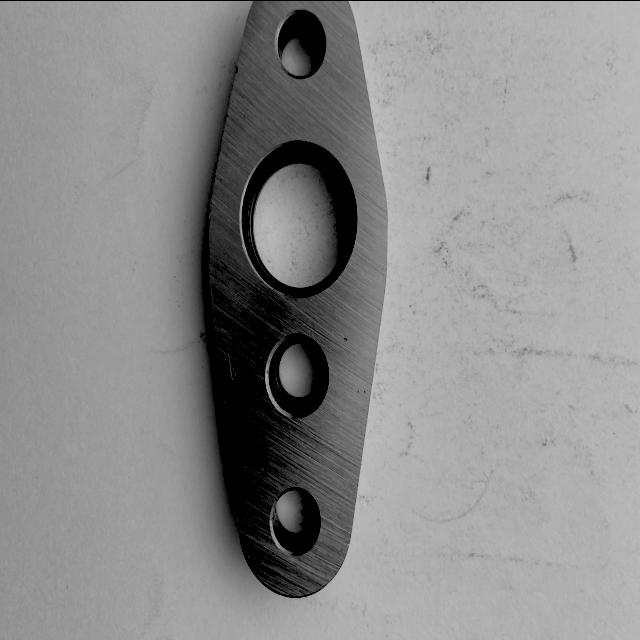chap: (356, 384, 368, 398), (240, 160, 248, 170)
lines: (226, 349, 240, 384), (341, 332, 351, 343)
